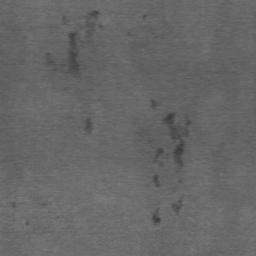Iron scale compression: (163, 112, 191, 174), (69, 32, 81, 87), (86, 10, 99, 29), (151, 206, 161, 226), (171, 200, 183, 216), (154, 149, 163, 168), (82, 118, 92, 135), (153, 175, 160, 189), (150, 100, 157, 111)
